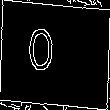O_S: (41, 28, 69, 82)
